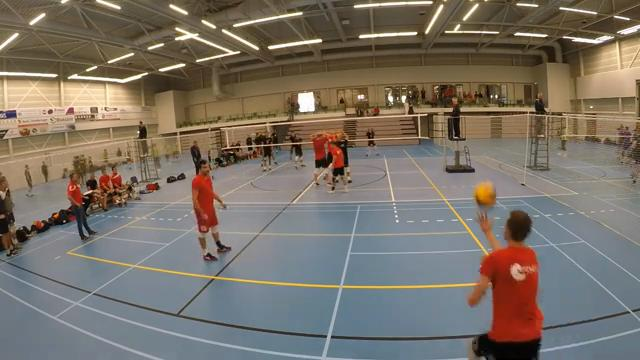battuta: (454, 203, 554, 359)
